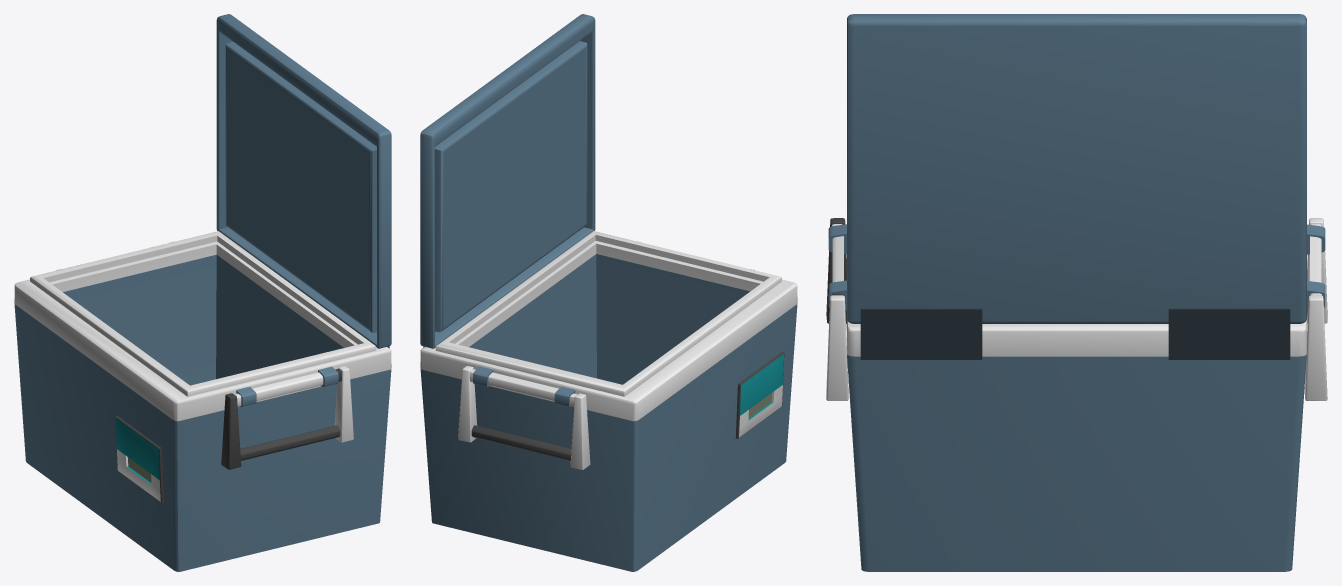
File: hieleraColor 1.fbx
The picture shows the model from 3 angles, left to right: view 1: azimuth 30°, elevation 25°; view 2: azimuth 150°, elevation 25°; view 3: azimuth 270°, elevation 25°; orthographic projection. The views are drawn at different scales.
Visible parts, largest first — view 1: cuerpo, tapa, asa_lateral2, monitor_temperatura; view 2: cuerpo, tapa, asa_lateral1, monitor_temperatura; view 3: tapa, cuerpo, asa_lateral1, asa_lateral2, visagra2, visagra4, visagra1, visagra3.
Part boxes in pixels (box(x1,y1,x2,y2)): cuerpo: box(14, 231, 391, 571); tapa: box(216, 14, 391, 348); asa_lateral2: box(221, 366, 353, 469); monitor_temperatura: box(115, 416, 163, 503); cuerpo: box(420, 231, 797, 571); tapa: box(420, 14, 595, 348); asa_lateral1: box(458, 366, 590, 469); monitor_temperatura: box(735, 351, 784, 438); tapa: box(847, 14, 1306, 323); cuerpo: box(847, 319, 1306, 571); asa_lateral1: box(1304, 218, 1327, 401); asa_lateral2: box(826, 218, 848, 400); visagra2: box(860, 308, 982, 343); visagra4: box(1168, 308, 1290, 343); visagra1: box(860, 328, 982, 359); visagra3: box(1168, 328, 1290, 359).
Size of the model in its own units: 129 by 221 by 181.
